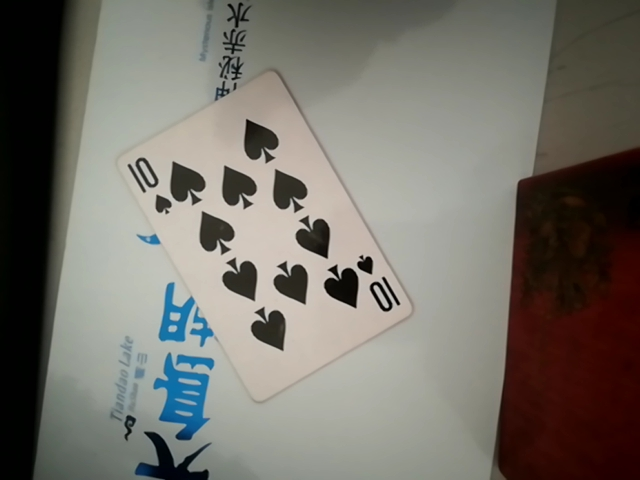ht 10: (123, 73, 418, 409)
